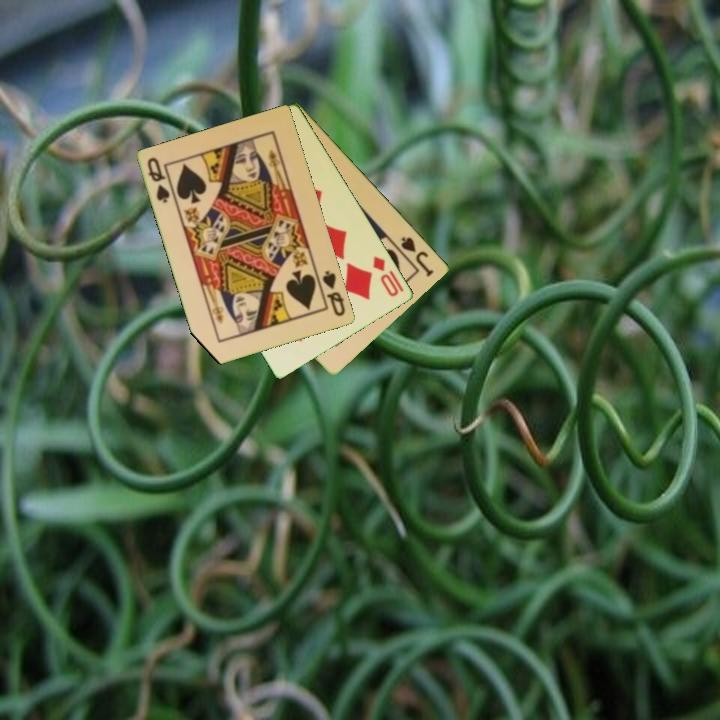10d: (369, 253, 402, 300)
Js: (397, 233, 437, 280)
Qs: (319, 267, 348, 319), (144, 154, 173, 206)
